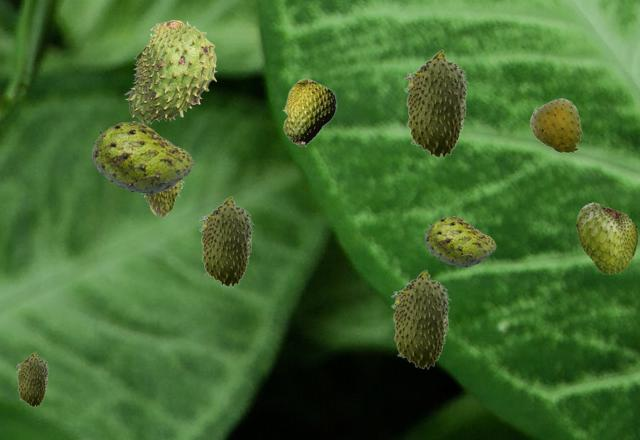guyabano: (124, 20, 216, 123), (91, 121, 193, 193), (404, 49, 468, 157), (391, 269, 450, 368), (199, 196, 253, 286), (576, 201, 637, 273), (282, 78, 336, 146), (424, 216, 495, 266), (529, 98, 581, 153), (16, 351, 48, 406), (141, 181, 183, 217)
